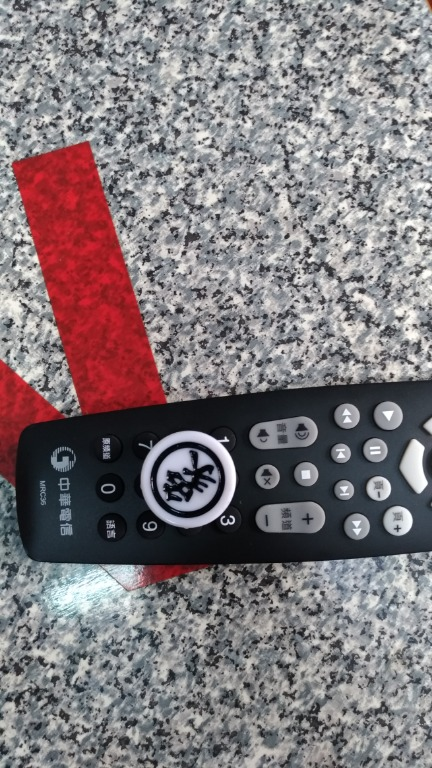b-elephant: (116, 414, 258, 547)
